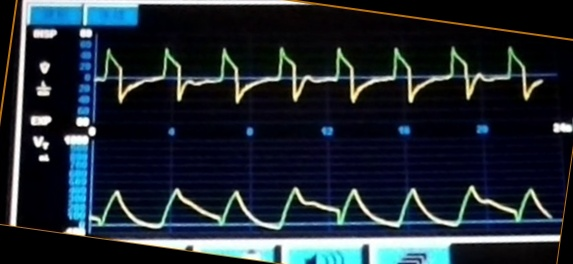Premature_cycling Flow: (100, 46, 544, 118)
Premature_cycling Volume: (95, 171, 557, 233)
